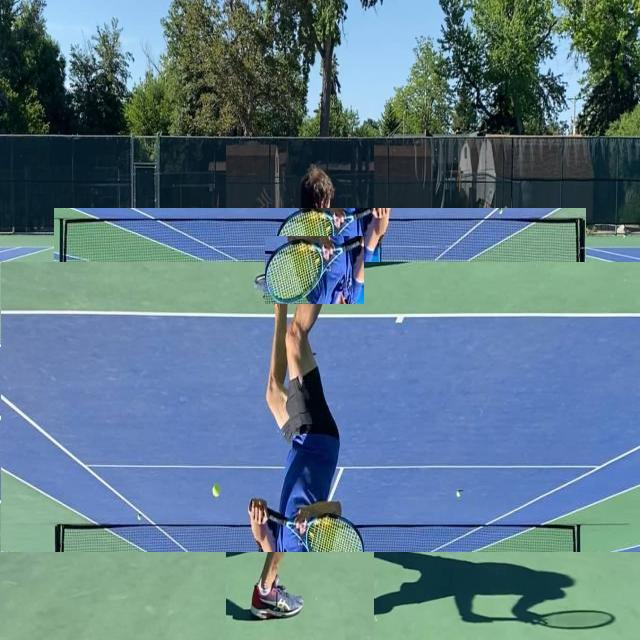court: (1, 262, 640, 552)
net: (54, 208, 586, 300)
player: (226, 141, 374, 640)
tennis ball: (211, 316, 220, 330), (455, 317, 462, 324)
tennis racket: (266, 236, 363, 304)
